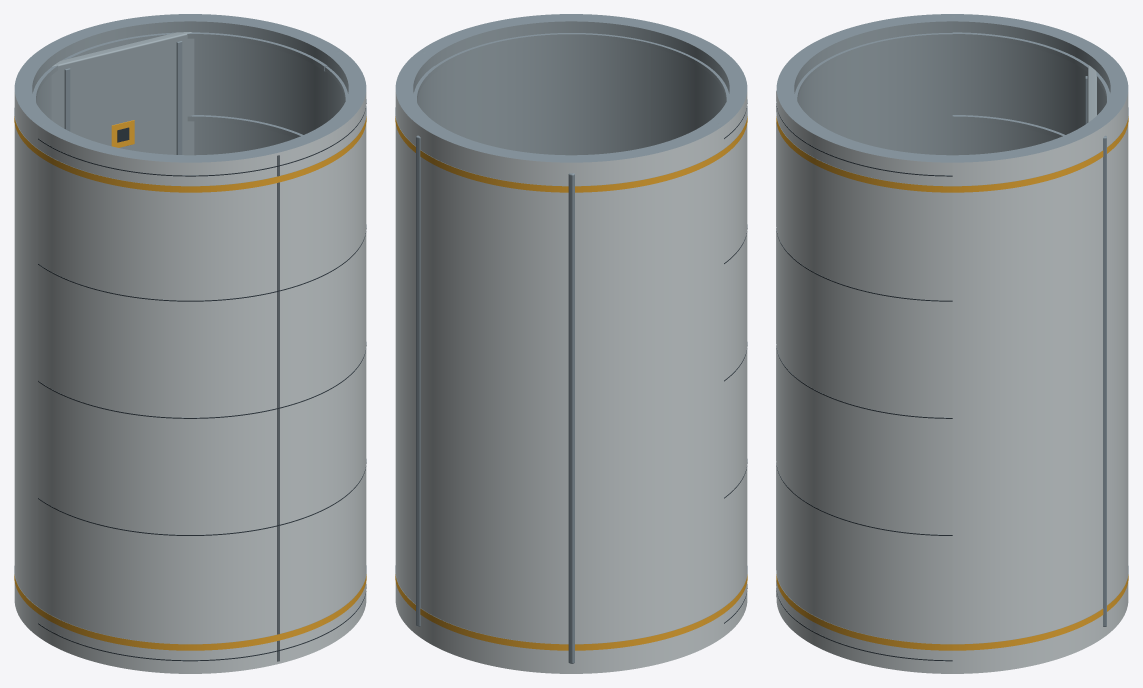
Rendered from cargoBay.glb.
3 renders of one model, left to right at view 1: azimuth 30°, elevation 25°; view 2: azimuth 150°, elevation 25°; view 3: azimuth 270°, elevation 25°, orthographic.
Visible parts, largest first — view 1: Curved hatch, Curved hatch.001, Lower pressure shell, Payload deck, Interior ring frame.006, Hatch amber band.001, Hatch amber band, Central gasket, Central gasket.001, Interior ring frame.005, Payload rail.001, Hatch amber band.002 (+1 smaller); view 2: Lower pressure shell, Curved hatch.001, Curved hatch, Deck support, Deck support.001, Lower amber band.001, Lower amber band, Hatch inner brace.009, Hatch inner brace.004; view 3: Lower pressure shell, Curved hatch.001, Curved hatch, Deck support.001, Hatch amber band.003, Hatch amber band.002, Lower amber band.001, Lower amber band, Interior ring frame.006, Hatch inner brace.004, Interior ring frame.005.
Boxes of the visible parts, left/top/right/bottom form: Curved hatch: left=38, top=122, right=278, bottom=673; Curved hatch.001: left=270, top=51, right=366, bottom=663; Lower pressure shell: left=14, top=14, right=342, bottom=636; Payload deck: left=51, top=32, right=194, bottom=155; Interior ring frame.006: left=33, top=32, right=327, bottom=102; Hatch amber band.001: left=37, top=149, right=278, bottom=192; Hatch amber band: left=37, top=607, right=278, bottom=650; Central gasket: left=277, top=155, right=278, bottom=661; Central gasket.001: left=278, top=155, right=279, bottom=661; Interior ring frame.005: left=187, top=115, right=302, bottom=138; Payload rail.001: left=176, top=41, right=182, bottom=154; Hatch amber band.002: left=278, top=565, right=366, bottom=640; Lower pressure shell: left=395, top=51, right=723, bottom=673; Curved hatch.001: left=419, top=14, right=658, bottom=155; Curved hatch: left=650, top=24, right=747, bottom=636; Deck support: left=568, top=173, right=574, bottom=663; Deck support.001: left=416, top=135, right=420, bottom=626; Lower amber band.001: left=395, top=107, right=724, bottom=192; Lower amber band: left=395, top=565, right=724, bottom=650; Hatch inner brace.009: left=435, top=33, right=650, bottom=69; Hatch inner brace.004: left=649, top=42, right=728, bottom=100; Lower pressure shell: left=952, top=14, right=1128, bottom=673; Curved hatch.001: left=776, top=88, right=952, bottom=673; Curved hatch: left=776, top=14, right=952, bottom=155; Deck support.001: left=1103, top=135, right=1106, bottom=626; Hatch amber band.003: left=776, top=112, right=952, bottom=192; Hatch amber band.002: left=776, top=570, right=952, bottom=650; Lower amber band.001: left=952, top=107, right=1128, bottom=192; Lower amber band: left=952, top=566, right=1128, bottom=650; Interior ring frame.006: left=952, top=32, right=1110, bottom=102; Hatch inner brace.004: left=795, top=33, right=952, bottom=100; Interior ring frame.005: left=952, top=115, right=1064, bottom=138.
Bounding box in the file's own units: 6 × 9.6 × 6.
